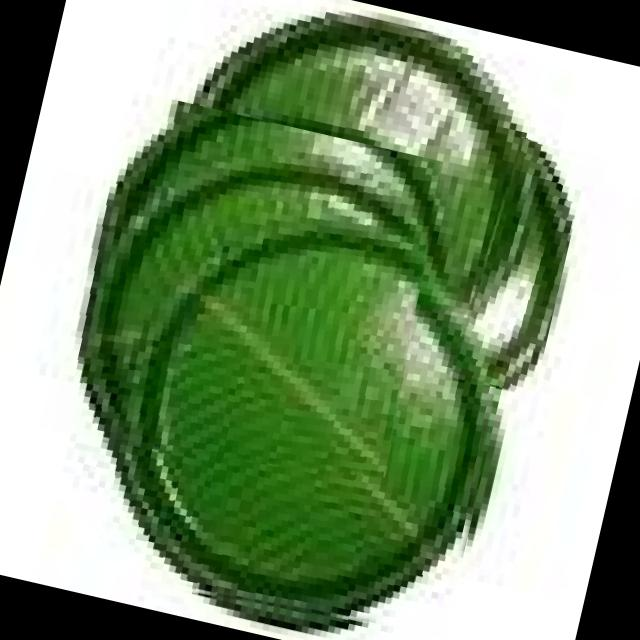PaperCardboard: (115, 240, 482, 612), (74, 114, 426, 442), (182, 20, 510, 310), (467, 137, 580, 388)
